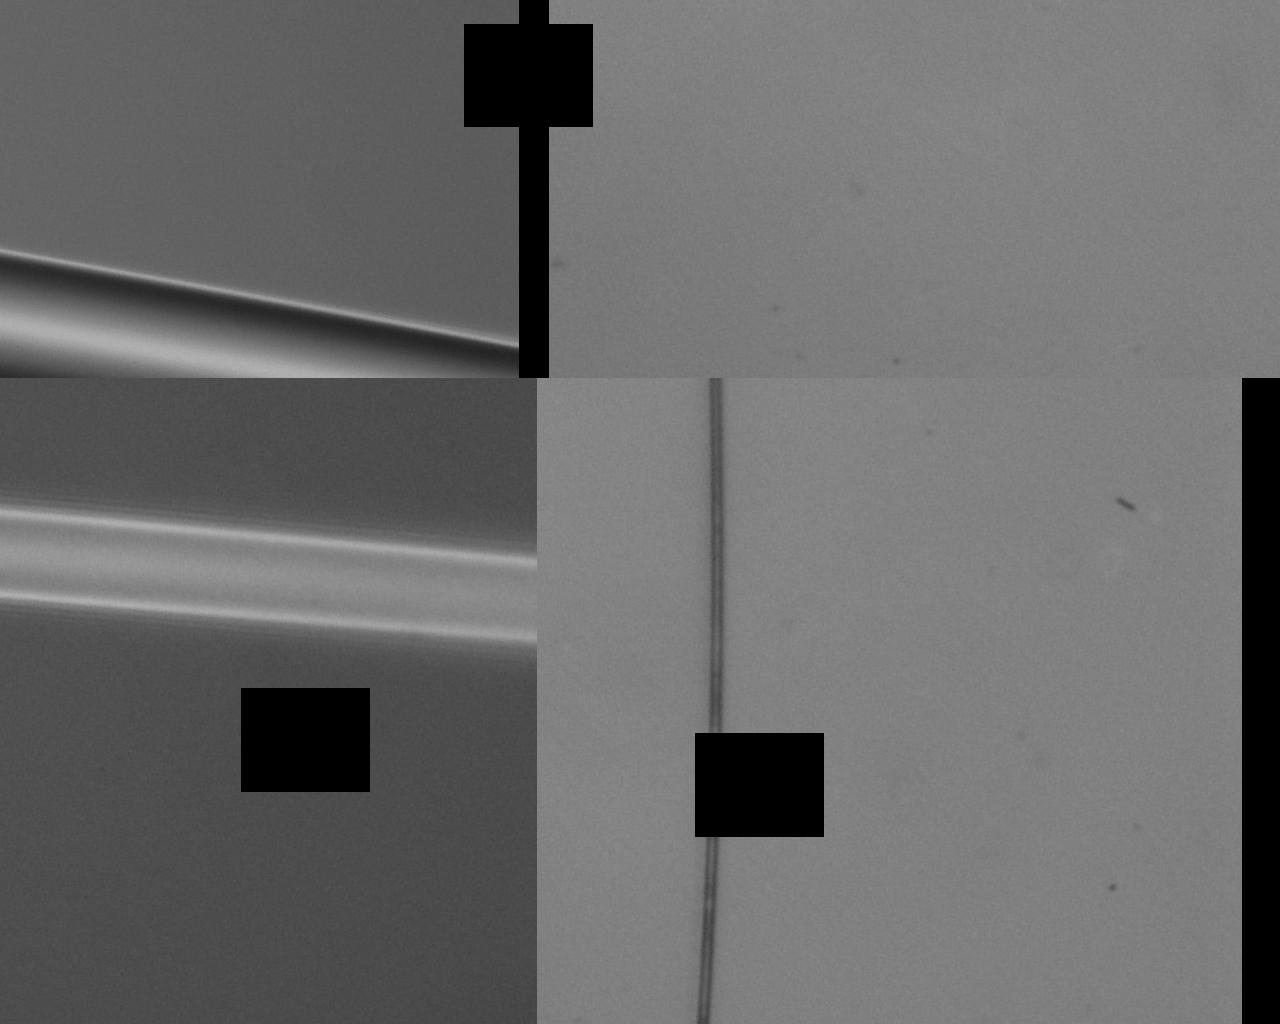fiber: (127, 373, 1151, 474)
